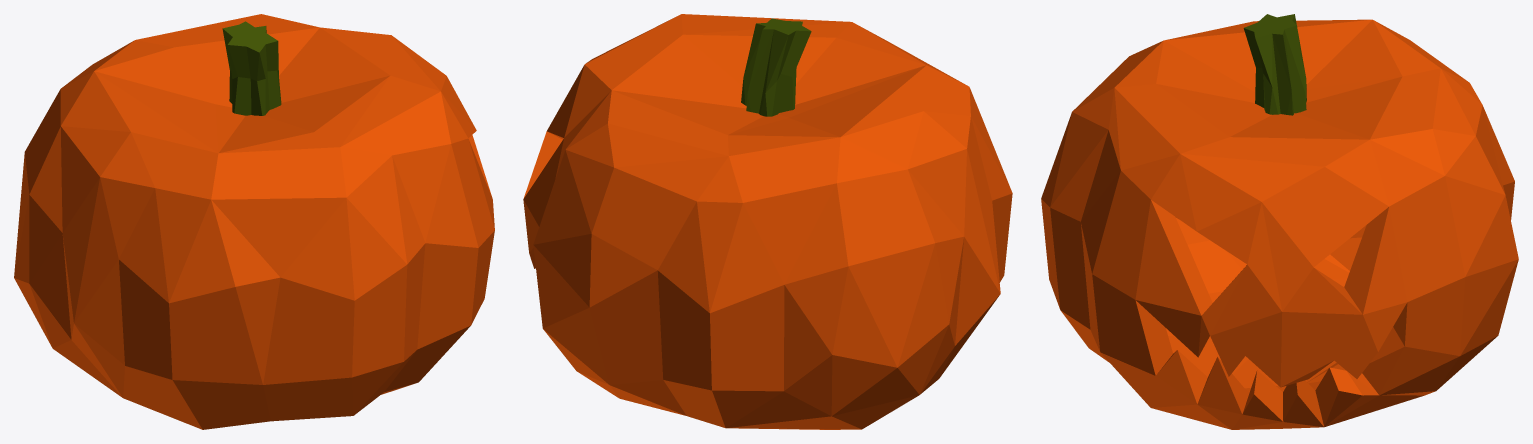
The model's file is pumpkin.glb.
The picture shows the model from 3 angles, left to right: view 1: azimuth 30°, elevation 25°; view 2: azimuth 150°, elevation 25°; view 3: azimuth 270°, elevation 25°; orthographic projection. The views are drawn at different scales.
Parts seen in each view (by area): view 1: Sphere, Cylinder; view 2: Sphere, Cylinder; view 3: Sphere, Cylinder.
Part boxes in pixels (left/top/right/bottom): Sphere: left=14, top=14, right=494, bottom=429; Cylinder: left=222, top=21, right=281, bottom=115; Sphere: left=523, top=14, right=1012, bottom=429; Cylinder: left=741, top=18, right=811, bottom=116; Sphere: left=1041, top=19, right=1518, bottom=429; Cylinder: left=1243, top=14, right=1306, bottom=115.
Bounding box in the file's own units: 3.95 × 3.3 × 3.94.
